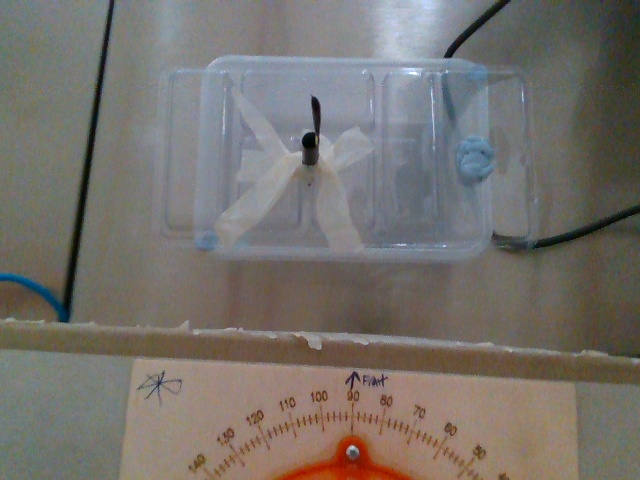test_strip: (308, 93, 320, 145)
